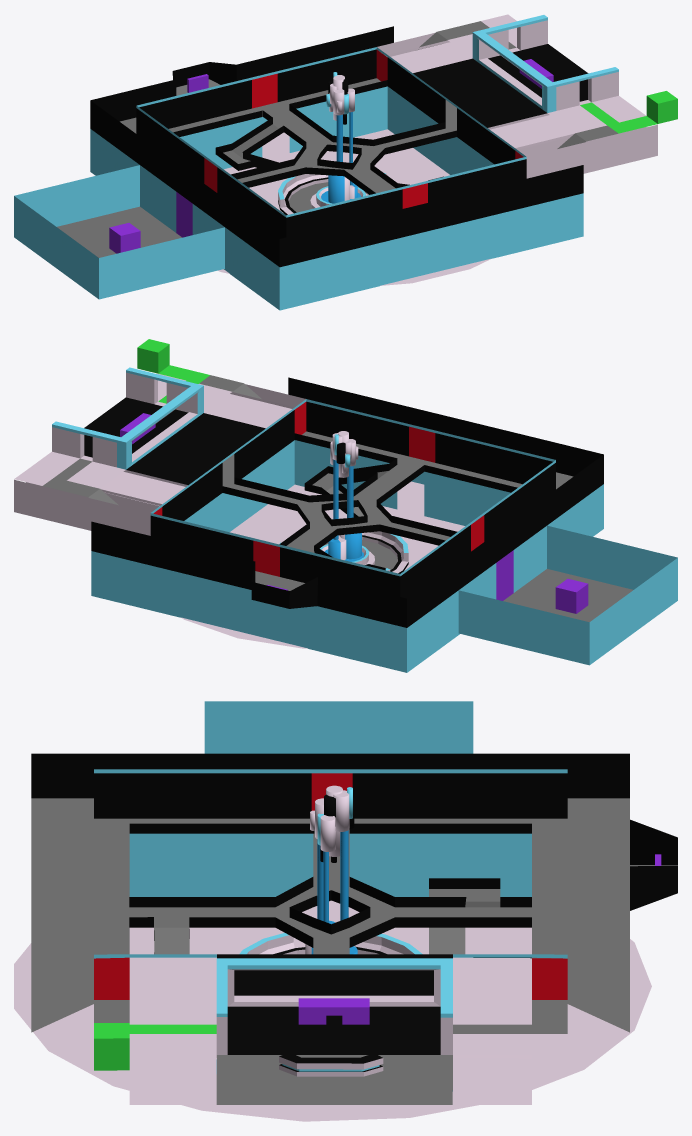
The model's file is level1B.fbx.
3 renders of one model, top to bottom at view 1: azimuth 30°, elevation 25°; view 2: azimuth 150°, elevation 25°; view 3: azimuth 270°, elevation 25°, orthographic. The views are drawn at different scales.
Visible parts, largest first — view 1: Cylinder; view 2: Cylinder; view 3: Cylinder.
Part boxes in pixels (x1,y1,x2,y2): Cylinder: (14,14,677,310); Cylinder: (14,339,677,672); Cylinder: (14,701,677,1121).
Size of the model in its own units: 5463 by 1364 by 3655.
